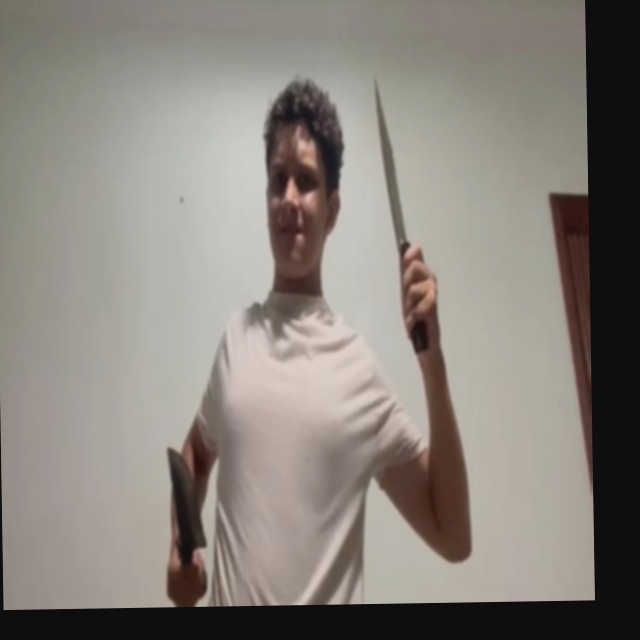Sharp-Object: (373, 75, 406, 247), (165, 444, 206, 550)
